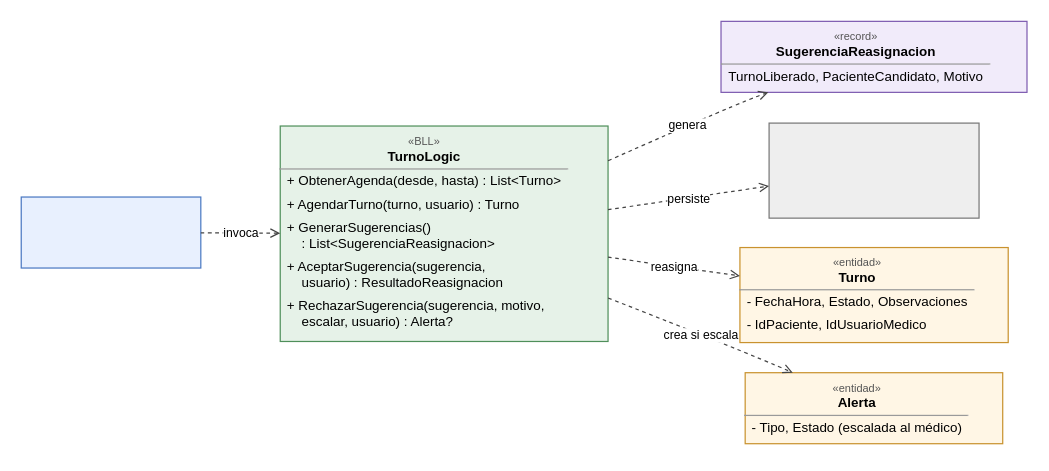
This 1049x471 diagram has some shape labels left out. The centre of each missing label's shape, as x and y in pixels:
«EF Core» NegocioDbContext + SaveChanges() : int (firma DVH/DVV y audita): point 873,170
«UserControl» AgendaControl (agenda y sugerencias): point 110,232
